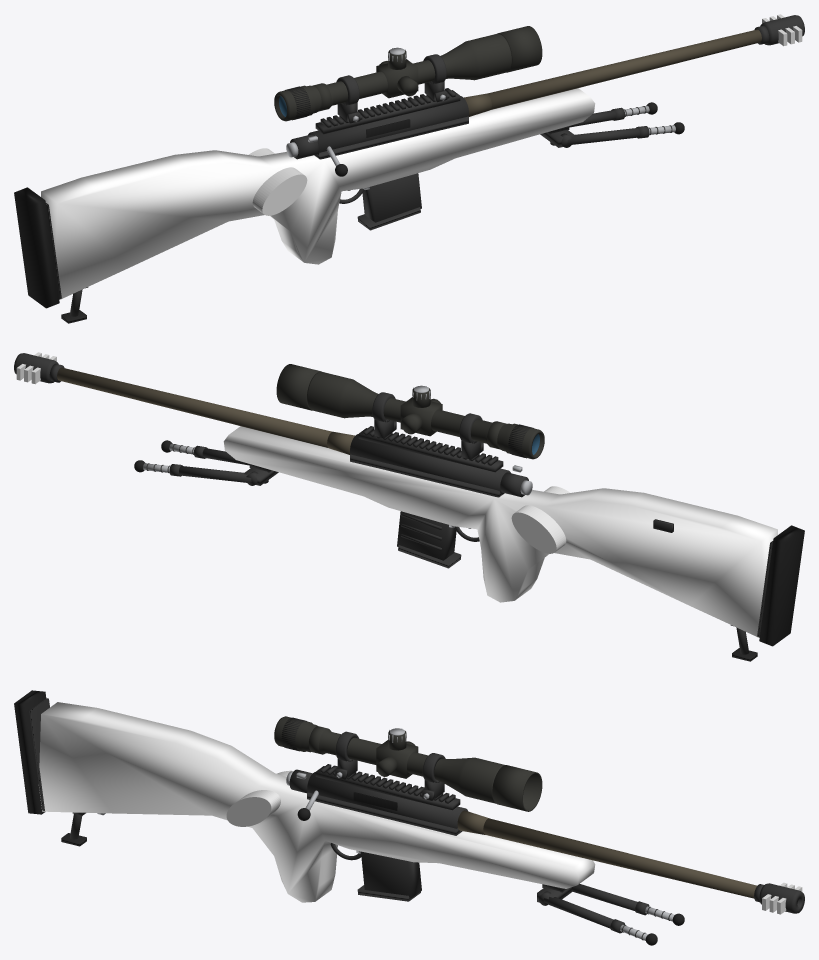
The picture shows the model from 3 angles, top to bottom: view 1: azimuth 30°, elevation 25°; view 2: azimuth 150°, elevation 25°; view 3: azimuth 330°, elevation 25°; orthographic projection.
Parts seen in each view (by area): view 1: Stock, Scope_Body, Barrel, Butt_Pad, Receiver, Magazine, Top_Rail, Thumbhole_Cutter, Scope_Sunshade, Receiver_Bed, Scope_Saddle, Bipod_Leg_Outer_R (+1 smaller); view 2: Stock, Scope_Body, Barrel, Butt_Pad, Receiver, Top_Rail, Thumbhole_Cutter, Magazine, Scope_Sunshade, Receiver_Bed, Scope_Saddle, Bipod_Leg_Outer_L (+1 smaller); view 3: Stock, Scope_Body, Barrel, Receiver, Magazine, Butt_Pad, Top_Rail, Scope_Sunshade, Thumbhole_Cutter, Receiver_Bed, Muzzle_Brake, Scope_Saddle (+5 smaller).
Boxes of the visible parts, bbox=[...] form: Stock: bbox=[41, 88, 595, 299]; Scope_Body: bbox=[274, 33, 511, 121]; Barrel: bbox=[486, 29, 761, 109]; Butt_Pad: bbox=[14, 187, 59, 308]; Receiver: bbox=[308, 96, 468, 156]; Magazine: bbox=[362, 173, 421, 222]; Top_Rail: bbox=[315, 88, 460, 134]; Thumbhole_Cutter: bbox=[248, 148, 307, 215]; Scope_Sunshade: bbox=[497, 26, 542, 72]; Receiver_Bed: bbox=[316, 116, 468, 159]; Scope_Saddle: bbox=[376, 59, 418, 98]; Bipod_Leg_Outer_R: bbox=[567, 128, 639, 144]; Stock: bbox=[223, 426, 777, 637]; Scope_Body: bbox=[307, 371, 544, 459]; Barrel: bbox=[57, 367, 332, 447]; Butt_Pad: bbox=[759, 525, 804, 646]; Receiver: bbox=[350, 434, 510, 494]; Top_Rail: bbox=[358, 426, 503, 472]; Thumbhole_Cutter: bbox=[511, 486, 570, 553]; Magazine: bbox=[397, 511, 456, 560]; Scope_Sunshade: bbox=[276, 364, 321, 410]; Receiver_Bed: bbox=[350, 454, 502, 497]; Scope_Saddle: bbox=[400, 397, 442, 436]; Bipod_Leg_Outer_L: bbox=[179, 466, 251, 482]; Stock: bbox=[38, 702, 595, 902]; Scope_Body: bbox=[274, 716, 504, 803]; Barrel: bbox=[483, 818, 756, 898]; Receiver: bbox=[307, 772, 467, 831]; Magazine: bbox=[361, 851, 421, 898]; Butt_Pad: bbox=[14, 690, 46, 814]; Top_Rail: bbox=[315, 764, 460, 810]; Scope_Sunshade: bbox=[492, 765, 542, 811]; Thumbhole_Cutter: bbox=[226, 770, 293, 826]; Receiver_Bed: bbox=[307, 792, 462, 835]; Muzzle_Brake: bbox=[759, 883, 804, 913]; Scope_Saddle: bbox=[376, 740, 418, 778].
Size of the model in its own units: 1.25 by 0.2905 by 0.111.
